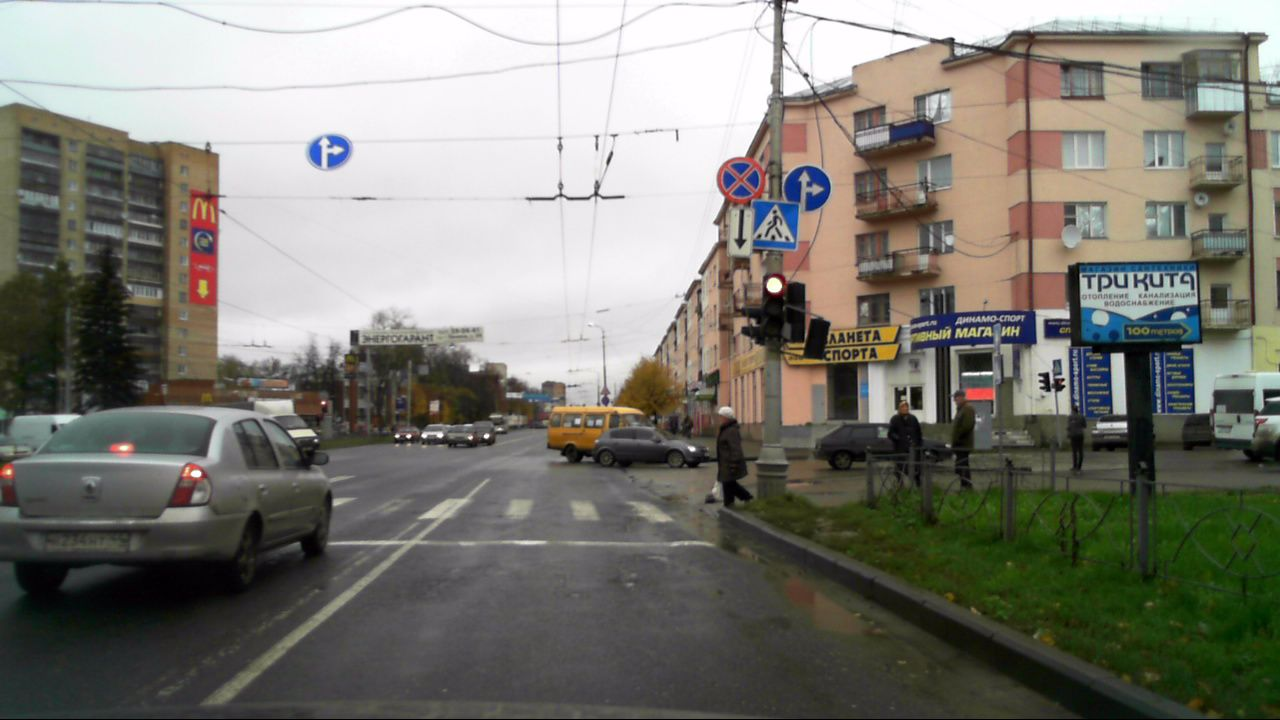No Parking: (715, 156, 765, 203)
